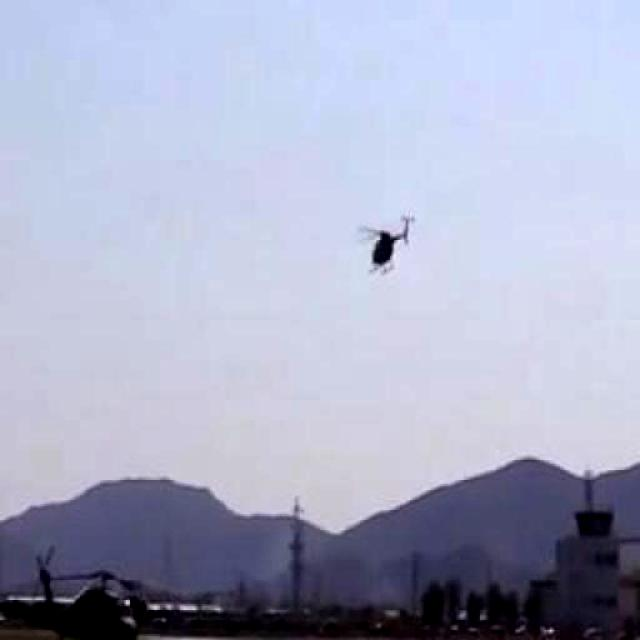drone: (324, 182, 454, 310), (24, 531, 174, 640)
